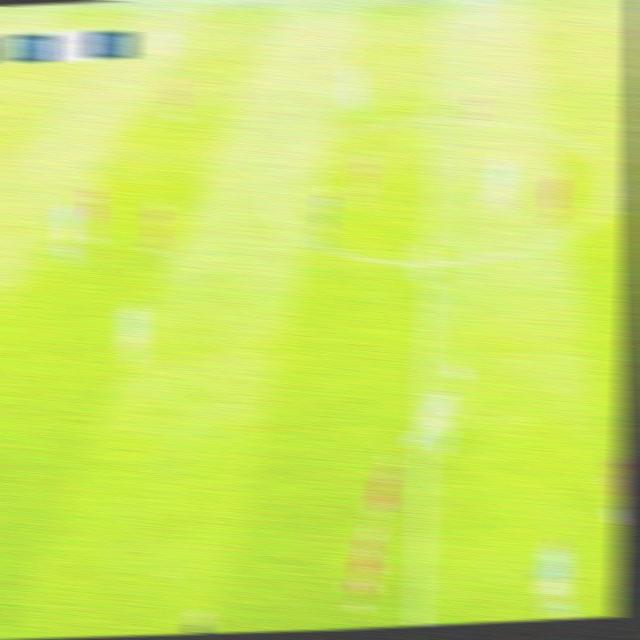halfcircle_bottom: (407, 243, 451, 283)
halfcircle_top: (417, 103, 456, 135)
midline_top_intersection: (423, 0, 458, 20)
